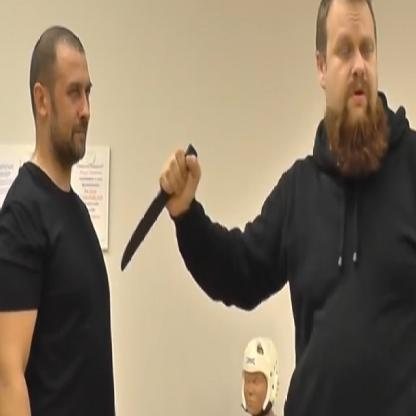knife: (116, 140, 203, 276)
